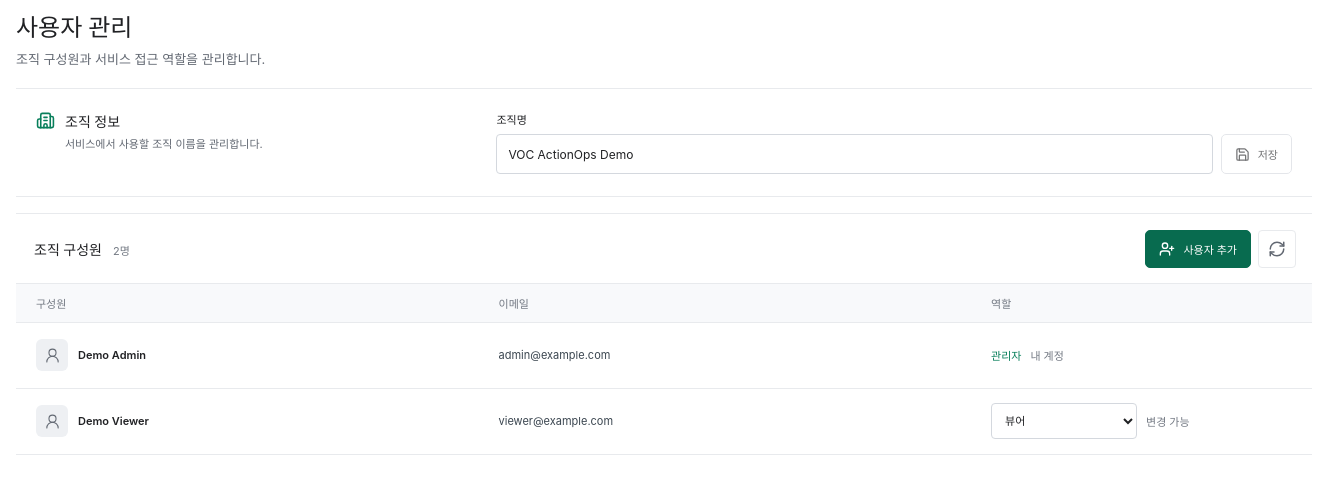
Test case: UsersPage › changes the organization name
Replace the text in the field labelled "조직명" with "Customer Lab" at [855, 154], box [496, 134, 1213, 174]
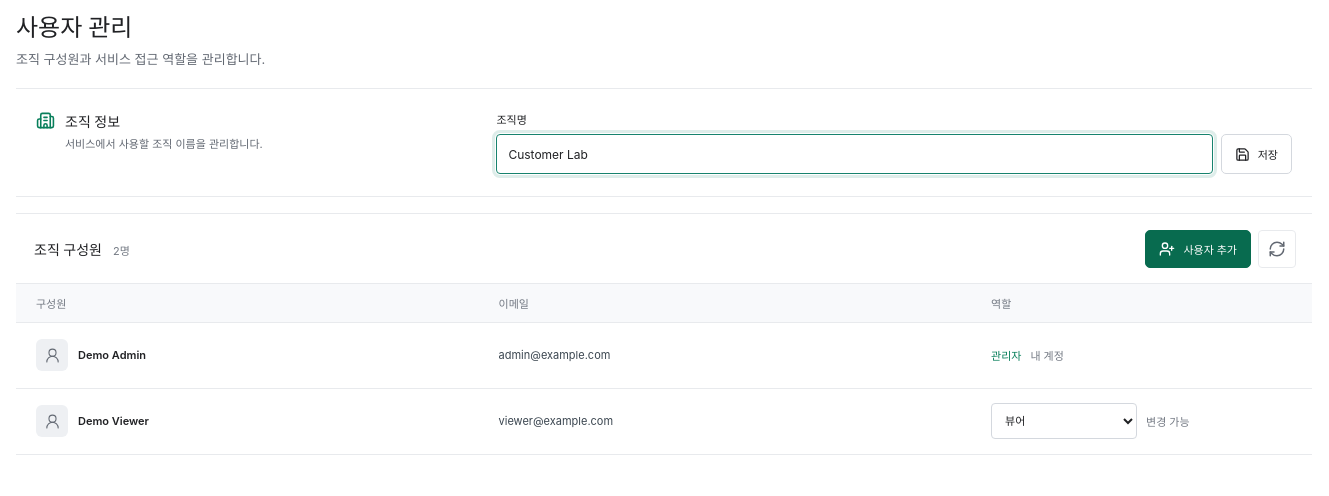
Click the button "저장" at [1256, 154], box [1221, 134, 1292, 174]
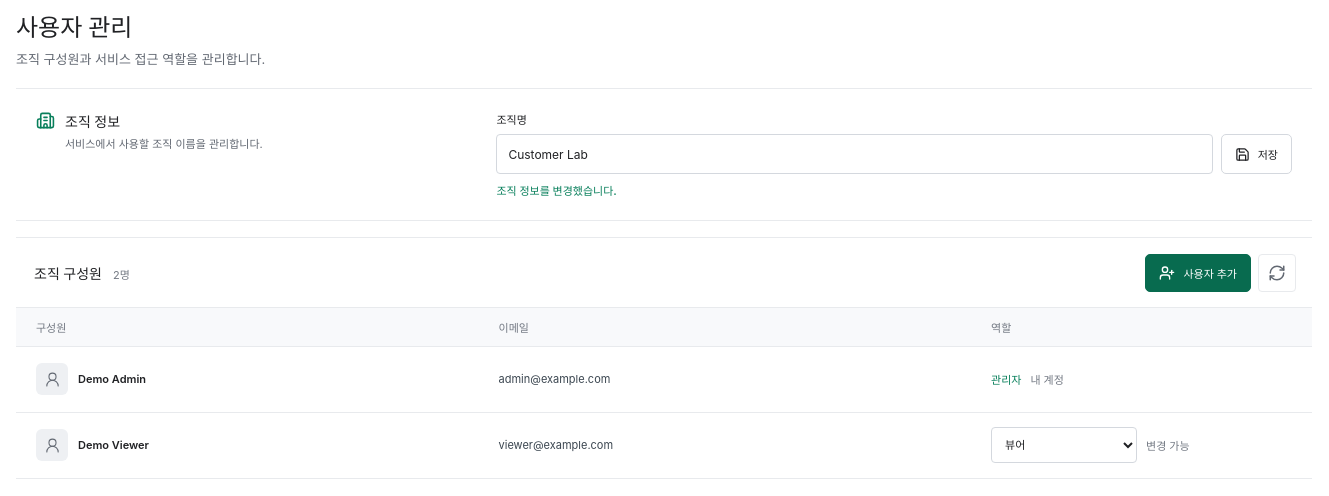
Expected: the text "조직 정보를 변경했습니다." is shown, [496, 184, 617, 198]
